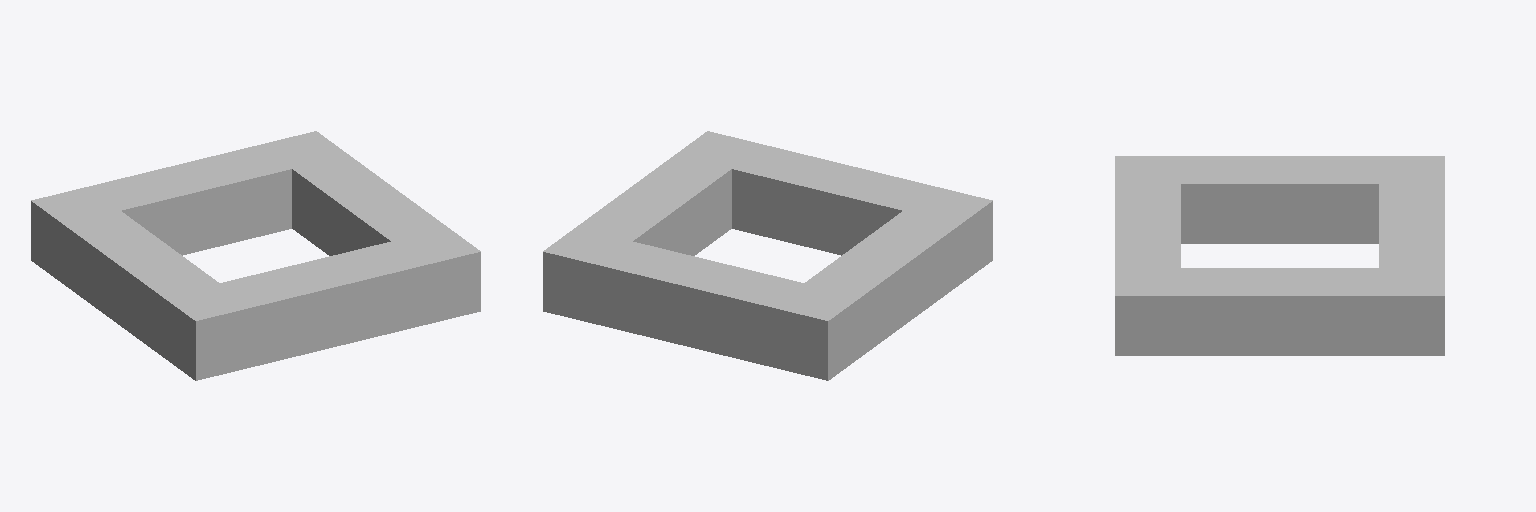
Rendered from planeSquareHole.obj.
The picture shows the model from 3 angles: view 1: azimuth 30°, elevation 25°; view 2: azimuth 150°, elevation 25°; view 3: azimuth 270°, elevation 25°; orthographic projection.
Visible parts, largest first — view 1: polySurface1; view 2: polySurface1; view 3: polySurface1.
Boxes of the visible parts, x1=… form: polySurface1: x1=31, y1=131, x2=480, y2=380; polySurface1: x1=543, y1=131, x2=992, y2=380; polySurface1: x1=1115, y1=156, x2=1444, y2=355.
Size of the model in its own units: 5 by 1 by 5.